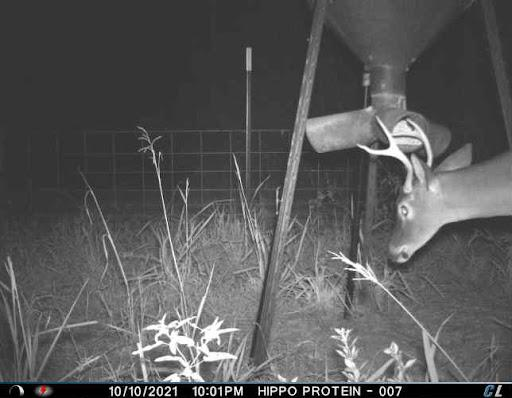Deer: (351, 111, 512, 269)
